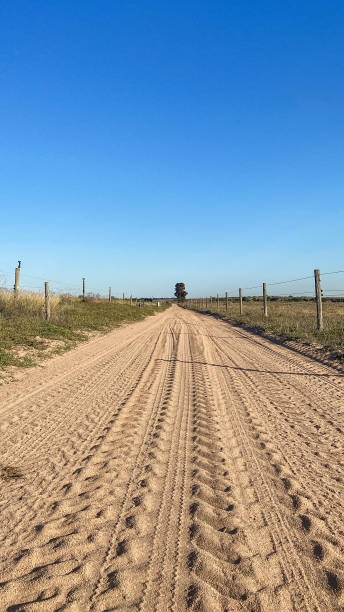vehicle_track: (0, 306, 343, 611), (1, 327, 165, 609), (205, 325, 342, 609)
